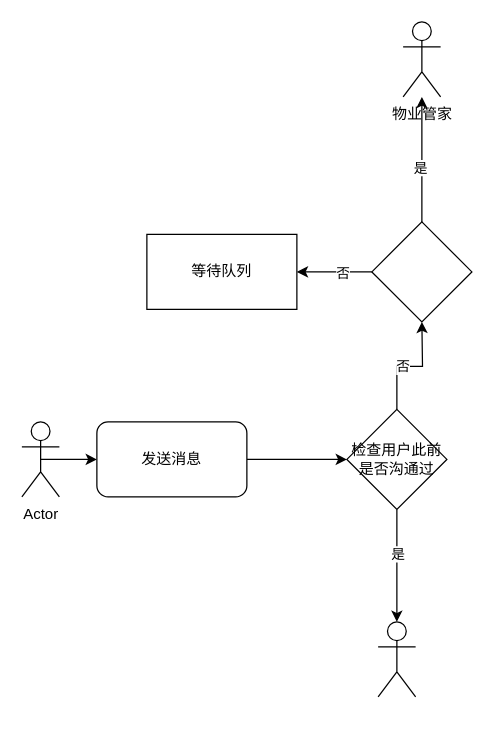
Some shapes in this 494 by 745 pixel diagram are drawn without their labels. Here are the shapes that lost their labels. From the top down, the centre of each, then its label:
At (421,271): "坐席是否空闲".
At (396,659): "沟通过的管家".
